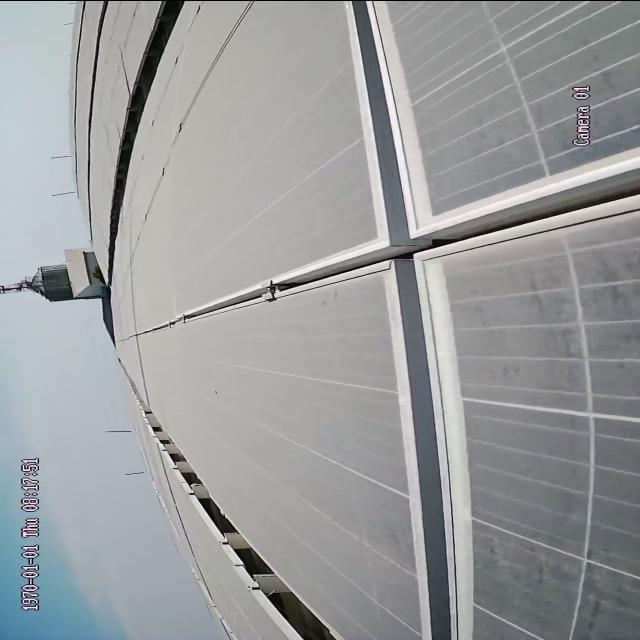interior panel: (117, 0, 638, 636)
outher panel: (140, 402, 349, 639), (107, 0, 183, 282)
